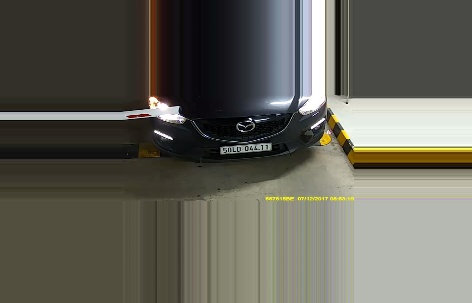plate: (219, 142, 277, 154)
